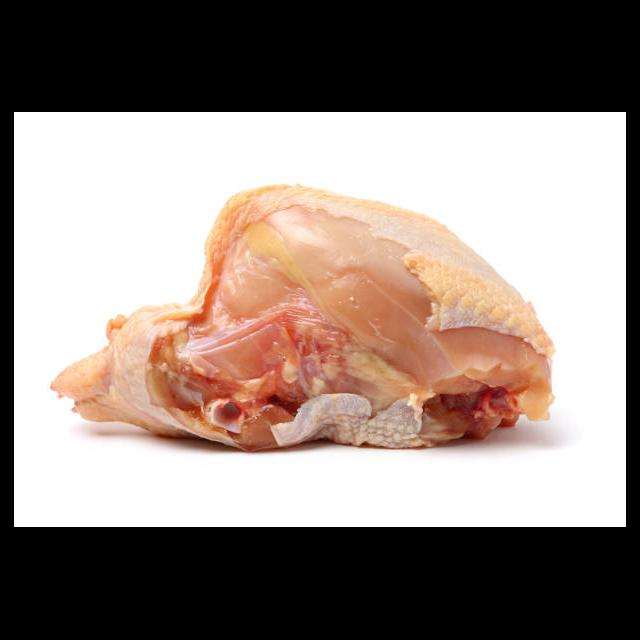chicken: (48, 182, 557, 454)
